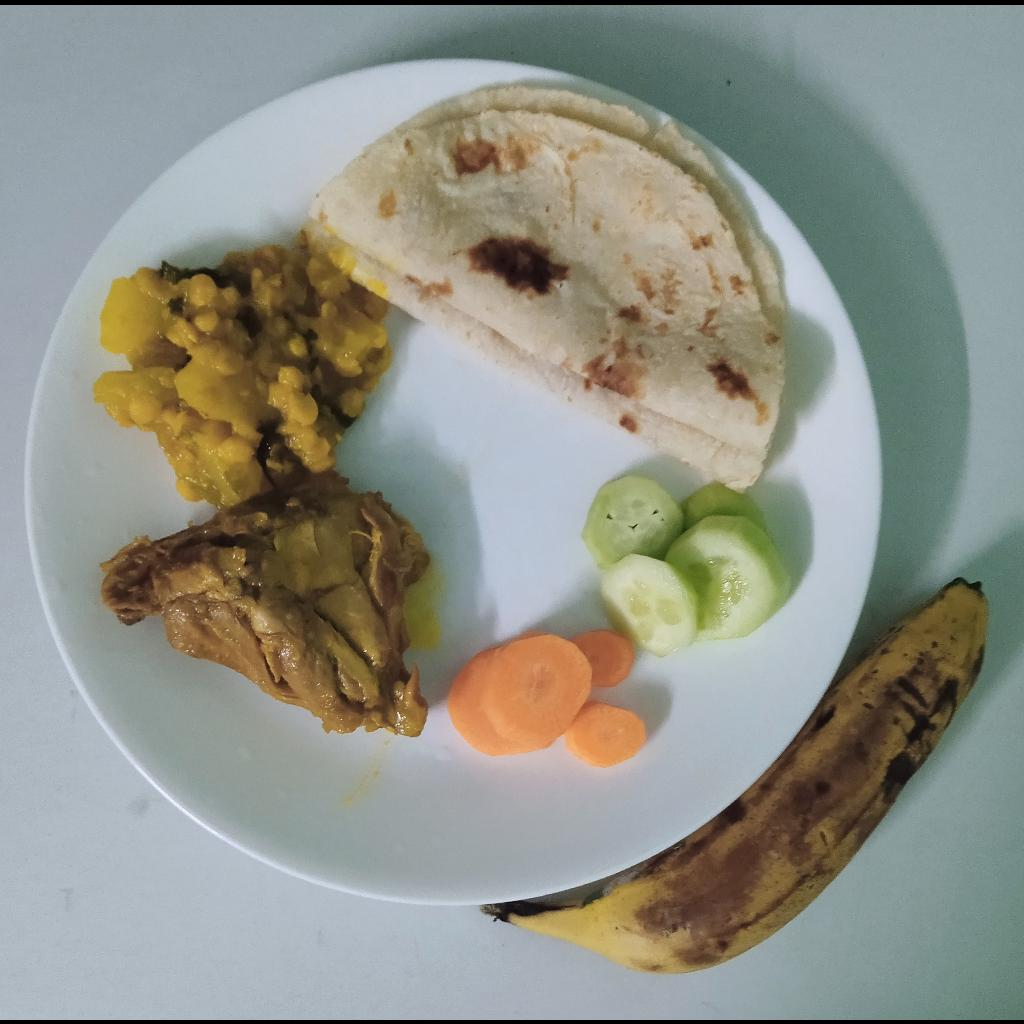banana: (557, 576, 989, 975)
carrot: (447, 627, 645, 768)
chicken: (97, 473, 434, 740)
cucumber: (576, 473, 791, 658)
daal: (94, 246, 388, 504)
ruti: (296, 85, 788, 486)
